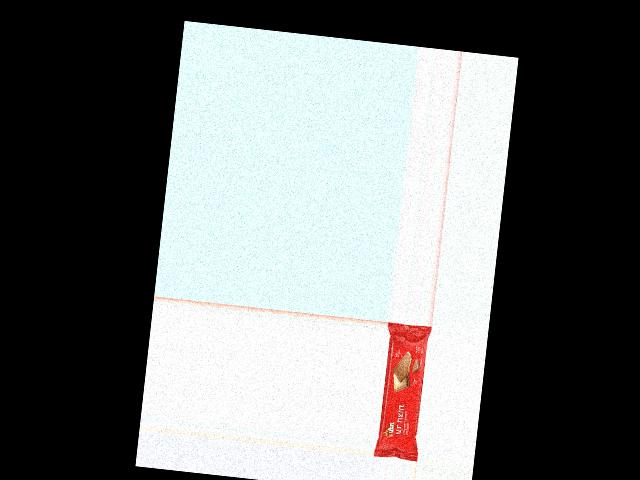chocolate: (374, 323, 432, 458)
